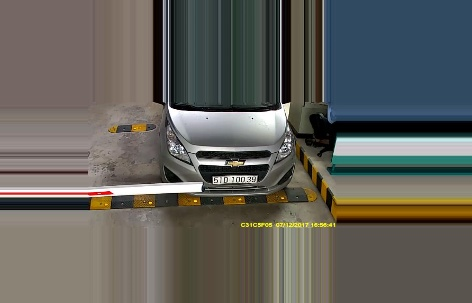plate: (213, 172, 258, 184)
